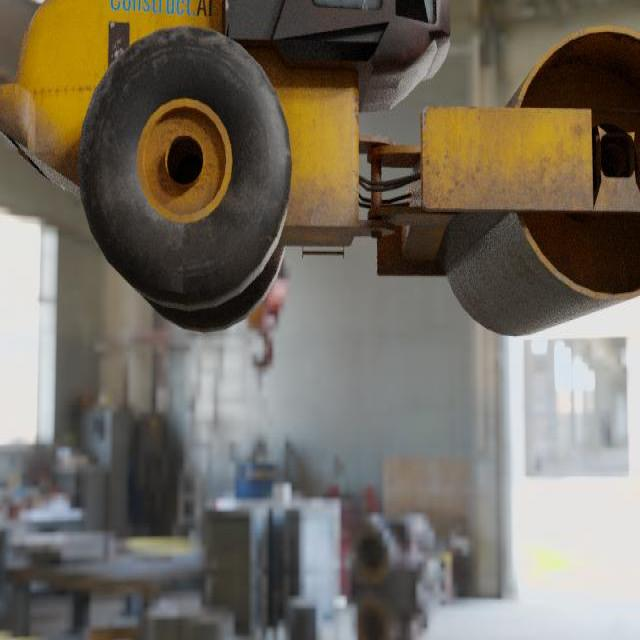Roller: (0, 0, 640, 339)
